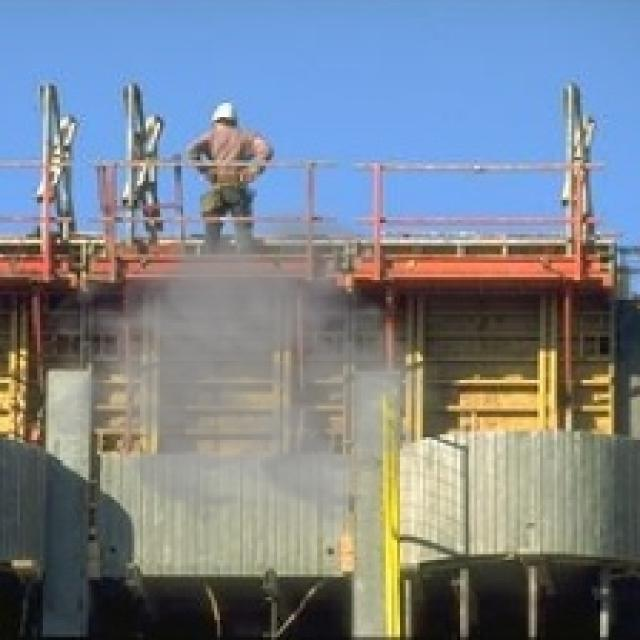Smoke: (39, 182, 452, 538)
